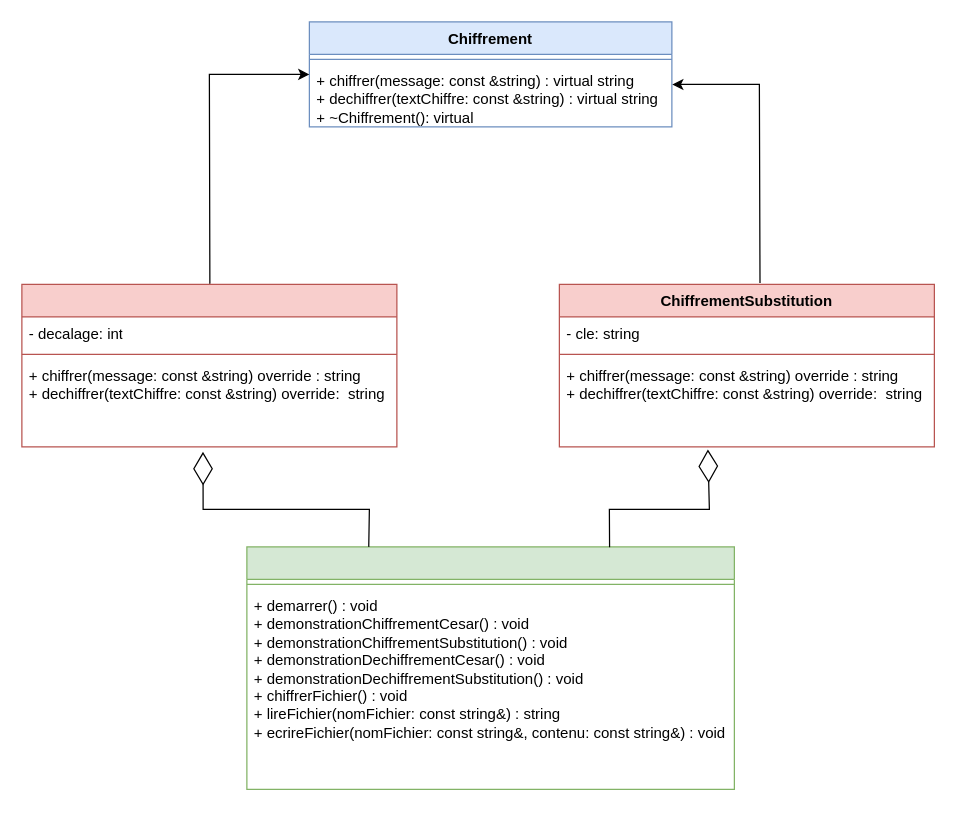
This 956x815 diagram has some shape labels left out. Each missing label, with the box of its shape:
ChiffrementCesar: (21, 283, 397, 447)
InterfaceUtilisateur: (246, 546, 734, 789)
